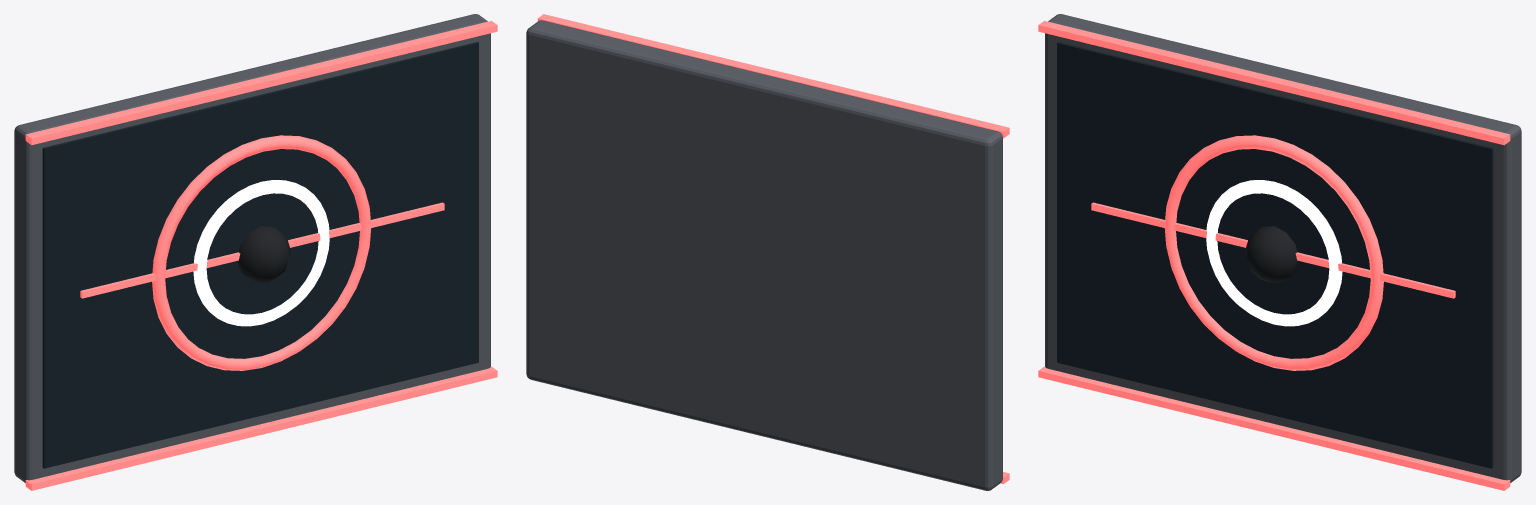
Rendered from holo_poster_eye.glb.
3 views of the same model, side by side, from view 1: azimuth 30°, elevation 25°; view 2: azimuth 150°, elevation 25°; view 3: azimuth 330°, elevation 25° (orthographic).
Parts seen in each view (by area): view 1: GD_holo_poster_eye__m1, GD_holo_poster_eye__m0, GD_holo_poster_eye__m2, GD_holo_poster_eye__m3, GD_holo_poster_eye__m4; view 2: GD_holo_poster_eye__m0, GD_holo_poster_eye__m2; view 3: GD_holo_poster_eye__m1, GD_holo_poster_eye__m0, GD_holo_poster_eye__m2, GD_holo_poster_eye__m3, GD_holo_poster_eye__m4.
Part boxes in pixels (bbox=[...]): GD_holo_poster_eye__m1: bbox=[42, 42, 478, 468]; GD_holo_poster_eye__m0: bbox=[14, 14, 490, 482]; GD_holo_poster_eye__m2: bbox=[25, 21, 497, 490]; GD_holo_poster_eye__m3: bbox=[193, 180, 329, 326]; GD_holo_poster_eye__m4: bbox=[237, 226, 290, 282]; GD_holo_poster_eye__m0: bbox=[526, 20, 1002, 490]; GD_holo_poster_eye__m2: bbox=[537, 14, 1009, 483]; GD_holo_poster_eye__m1: bbox=[1057, 42, 1493, 468]; GD_holo_poster_eye__m0: bbox=[1045, 14, 1521, 482]; GD_holo_poster_eye__m2: bbox=[1038, 21, 1510, 490]; GD_holo_poster_eye__m3: bbox=[1206, 180, 1342, 326]; GD_holo_poster_eye__m4: bbox=[1245, 226, 1298, 282].
Size of the model in its own units: 0.9 by 0.65 by 0.105.
